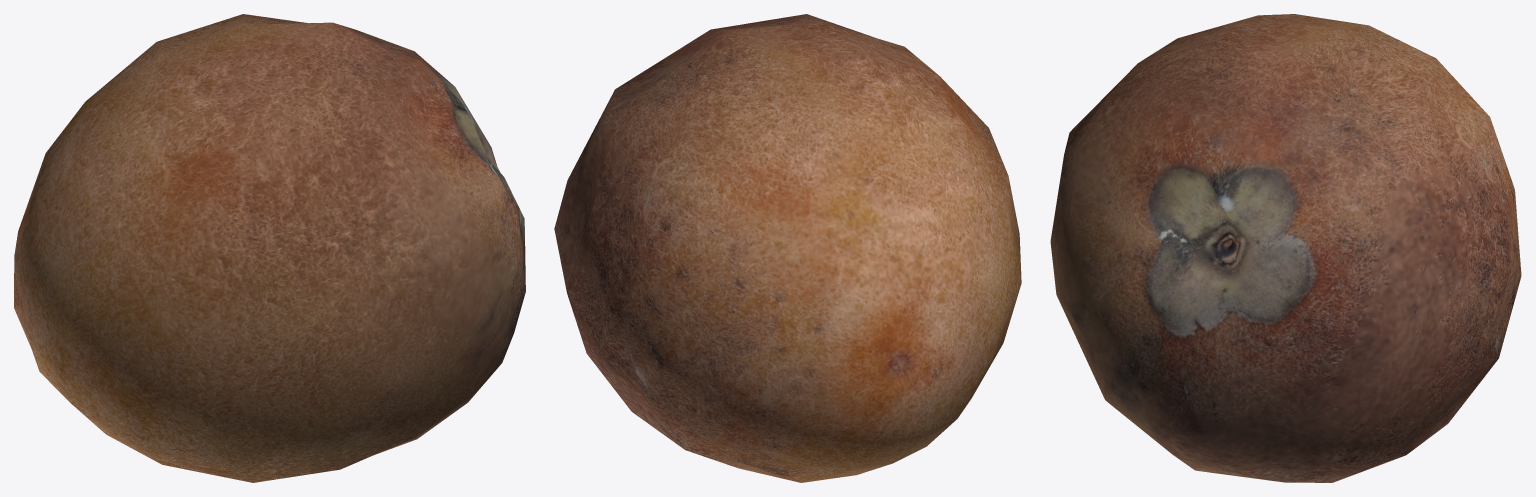
Rendered from A105_Kiwi_low.fbx.
3 views of the same model, side by side, from view 1: azimuth 30°, elevation 25°; view 2: azimuth 150°, elevation 25°; view 3: azimuth 270°, elevation 25° (orthographic). The views are drawn at different scales.
Visible parts, largest first — view 1: A105_Kiwi_low; view 2: A105_Kiwi_low; view 3: A105_Kiwi_low.
Boxes of the visible parts, box(x1,y1,x2,y2) form: A105_Kiwi_low: box(14, 14, 525, 482); A105_Kiwi_low: box(554, 14, 1021, 482); A105_Kiwi_low: box(1050, 14, 1521, 482).
Size of the model in its own units: 4.97 by 4.6 by 4.61.
1 material, 1 textured.
